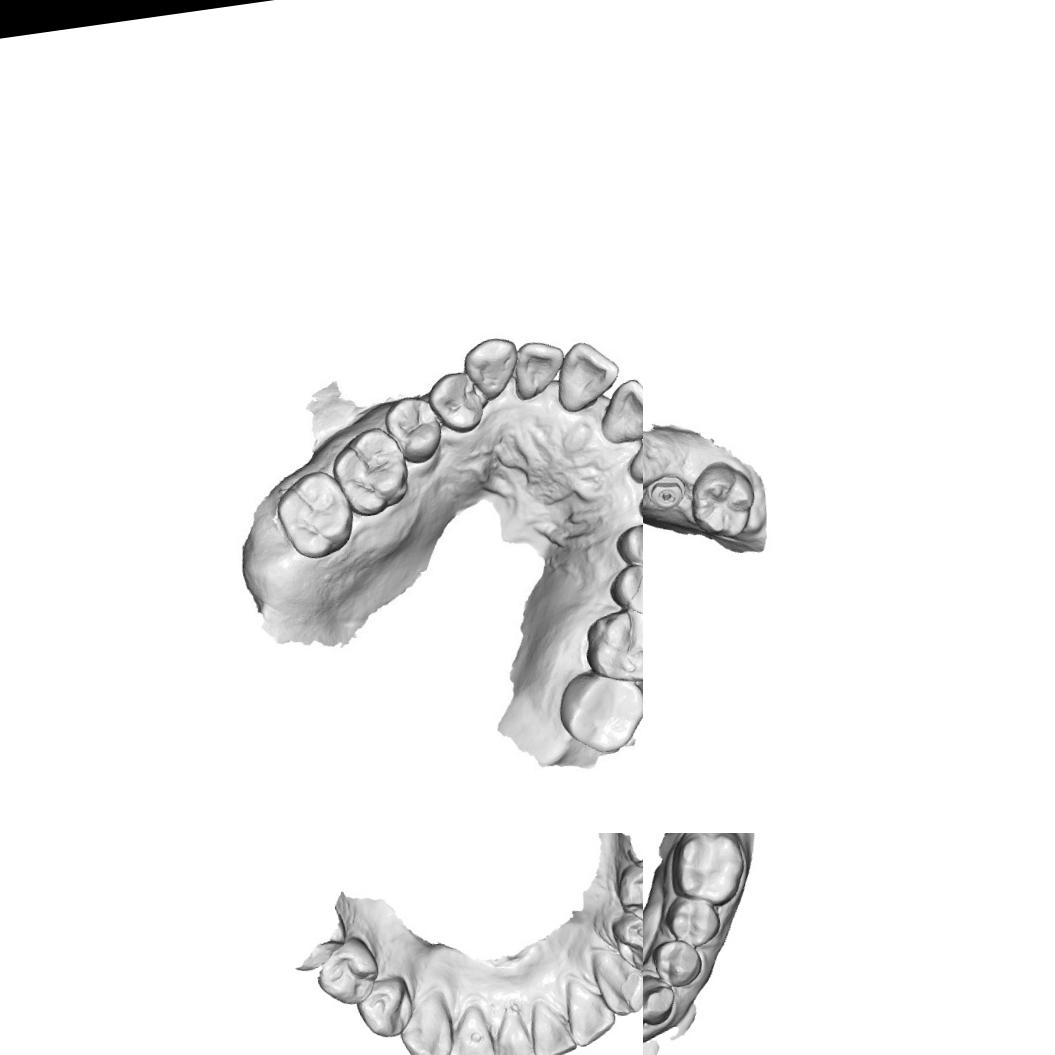canine: (393, 987, 462, 1055), (459, 332, 520, 406), (588, 943, 643, 1020), (643, 971, 679, 1029)
implant_minus: (643, 471, 686, 513)
incisor: (557, 341, 615, 406), (564, 976, 616, 1044), (526, 993, 577, 1055), (441, 1008, 503, 1055), (486, 1003, 540, 1055), (515, 342, 562, 398), (602, 381, 643, 443), (625, 431, 643, 478)
molar: (327, 421, 419, 521), (270, 466, 360, 566), (555, 660, 643, 759), (683, 456, 763, 547), (663, 833, 750, 913), (581, 602, 643, 686)
premolar: (312, 935, 385, 1011), (386, 397, 448, 471), (428, 366, 491, 438), (354, 972, 419, 1040), (662, 889, 724, 951), (649, 936, 705, 990), (601, 554, 643, 620), (608, 904, 643, 976), (611, 856, 643, 928), (614, 515, 643, 573)
